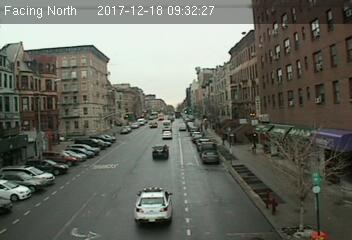car: (202, 150, 220, 163), (152, 144, 169, 157), (162, 129, 173, 139)
police: (134, 185, 175, 226)
